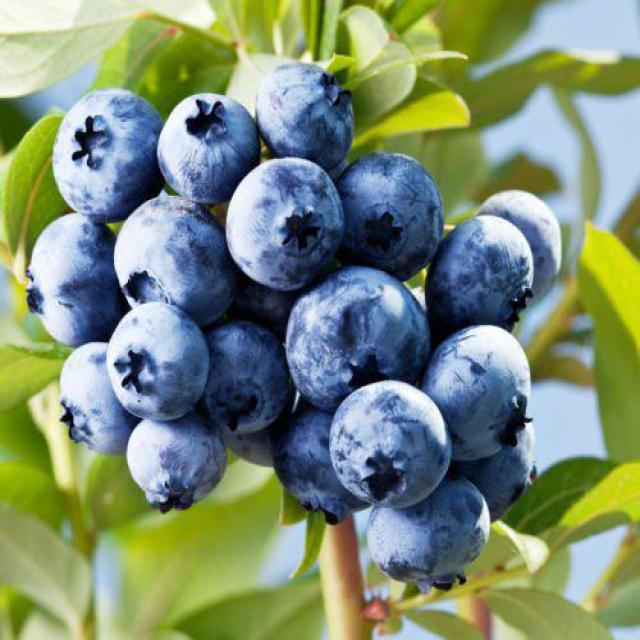BlueBerry - v1: (278, 257, 434, 414), (19, 207, 149, 366), (108, 189, 247, 329), (43, 81, 169, 230), (418, 203, 536, 358), (361, 471, 498, 603), (423, 319, 542, 470), (324, 376, 454, 512), (260, 393, 375, 535), (333, 142, 452, 279), (100, 292, 219, 427), (193, 314, 306, 447), (247, 51, 361, 180), (117, 412, 238, 520), (158, 86, 268, 203), (51, 337, 145, 472), (471, 180, 570, 304), (451, 410, 545, 522)
